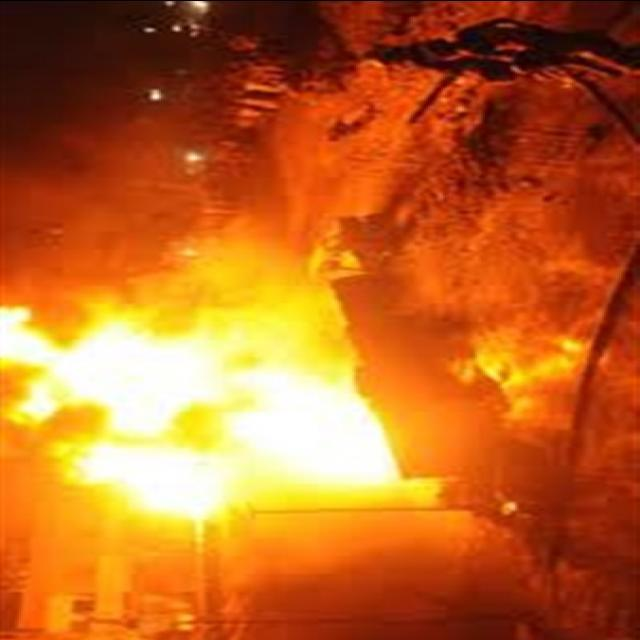Fire: (21, 310, 388, 516)
